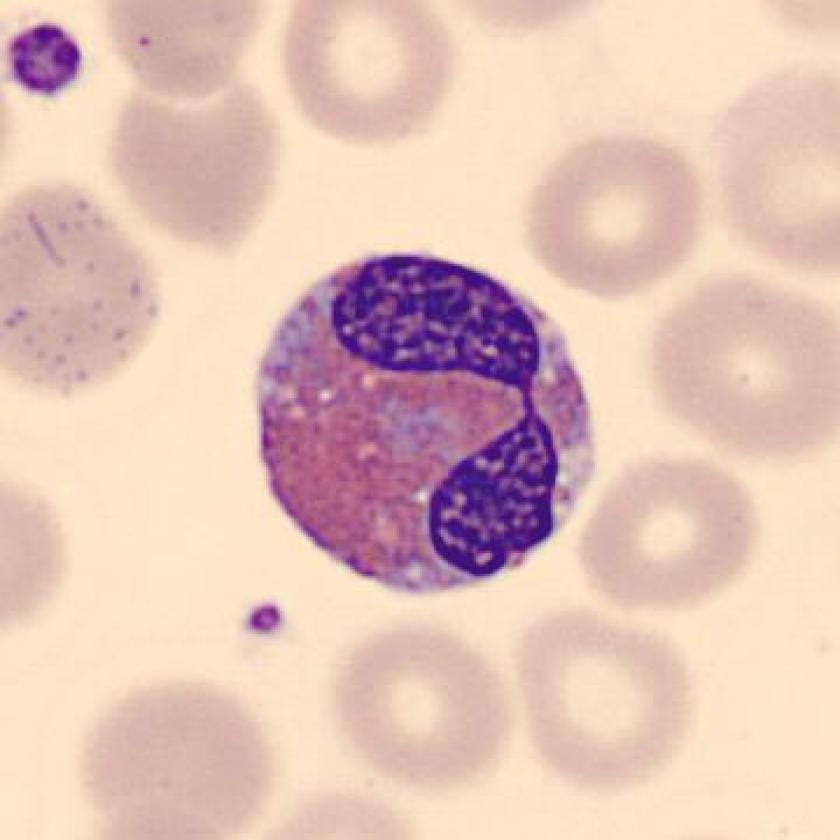eosinophil: (239, 240, 612, 610)
